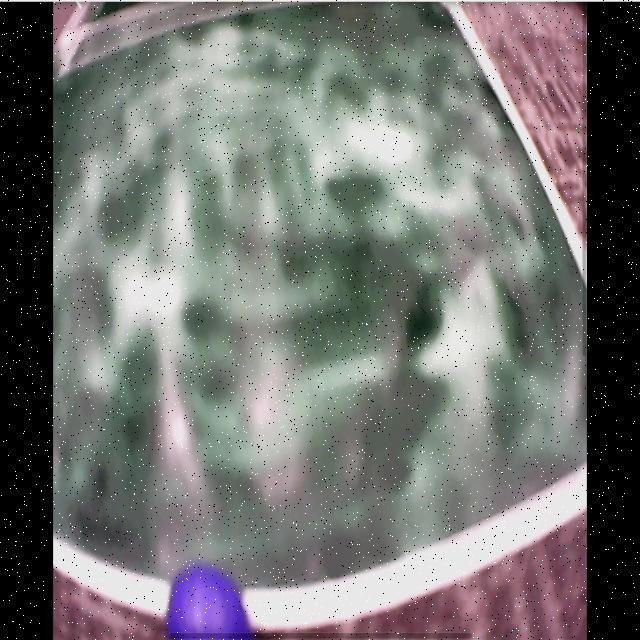ball: (168, 566, 251, 635)
